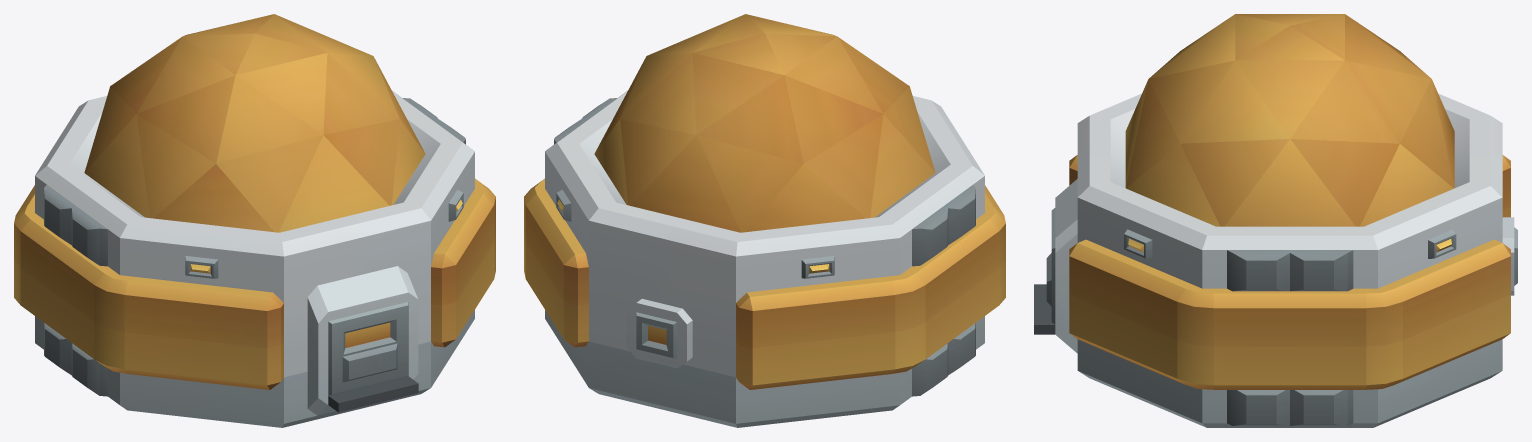
File: kay-modulo-comando.gltf
3 views of the same model, side by side, from view 1: azimuth 30°, elevation 25°; view 2: azimuth 150°, elevation 25°; view 3: azimuth 270°, elevation 25° (orthographic). The views are drawn at different scales.
Parts seen in each view (by area): view 1: basemodule_E; view 2: basemodule_E; view 3: basemodule_E.
Boxes of the visible parts, <box> form: basemodule_E: <box>14,14,495,427</box>; basemodule_E: <box>524,14,1005,427</box>; basemodule_E: <box>1034,14,1517,427</box>.
Size of the model in its own units: 5.78 by 4.29 by 5.92.
1 material, 1 textured.
